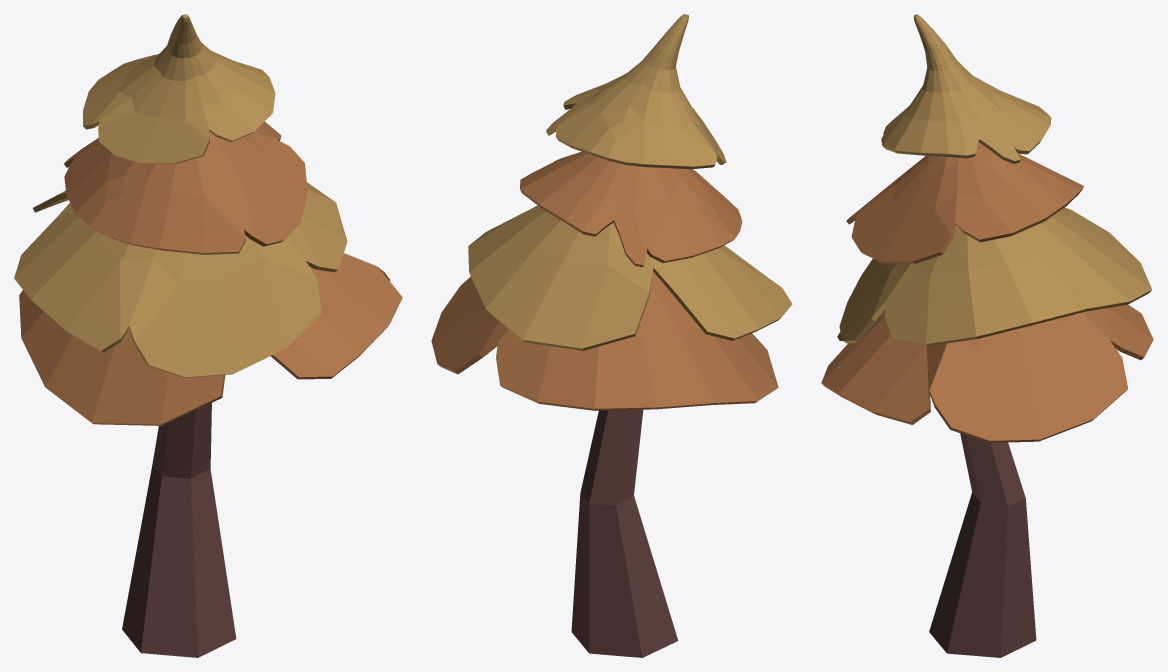
The model's file is PineTree_Autumn_5.glb.
The picture shows the model from 3 angles, left to right: view 1: azimuth 30°, elevation 25°; view 2: azimuth 150°, elevation 25°; view 3: azimuth 270°, elevation 25°; orthographic projection. The views are drawn at different scales.
Parts seen in each view (by area): view 1: LightOrange, Orange, Wood; view 2: LightOrange, Orange, Wood; view 3: Orange, LightOrange, Wood.
Boxes of the visible parts, bbox=[...] form: LightOrange: bbox=[14, 14, 347, 378]; Orange: bbox=[19, 121, 402, 425]; Wood: bbox=[122, 403, 236, 657]; LightOrange: bbox=[468, 14, 792, 350]; Orange: bbox=[431, 151, 778, 410]; Wood: bbox=[571, 409, 678, 657]; Orange: bbox=[821, 142, 1153, 442]; LightOrange: bbox=[839, 14, 1151, 345]; Wood: bbox=[929, 433, 1036, 657].
Bounding box in the file's own units: 1.47 × 2.69 × 1.34.
